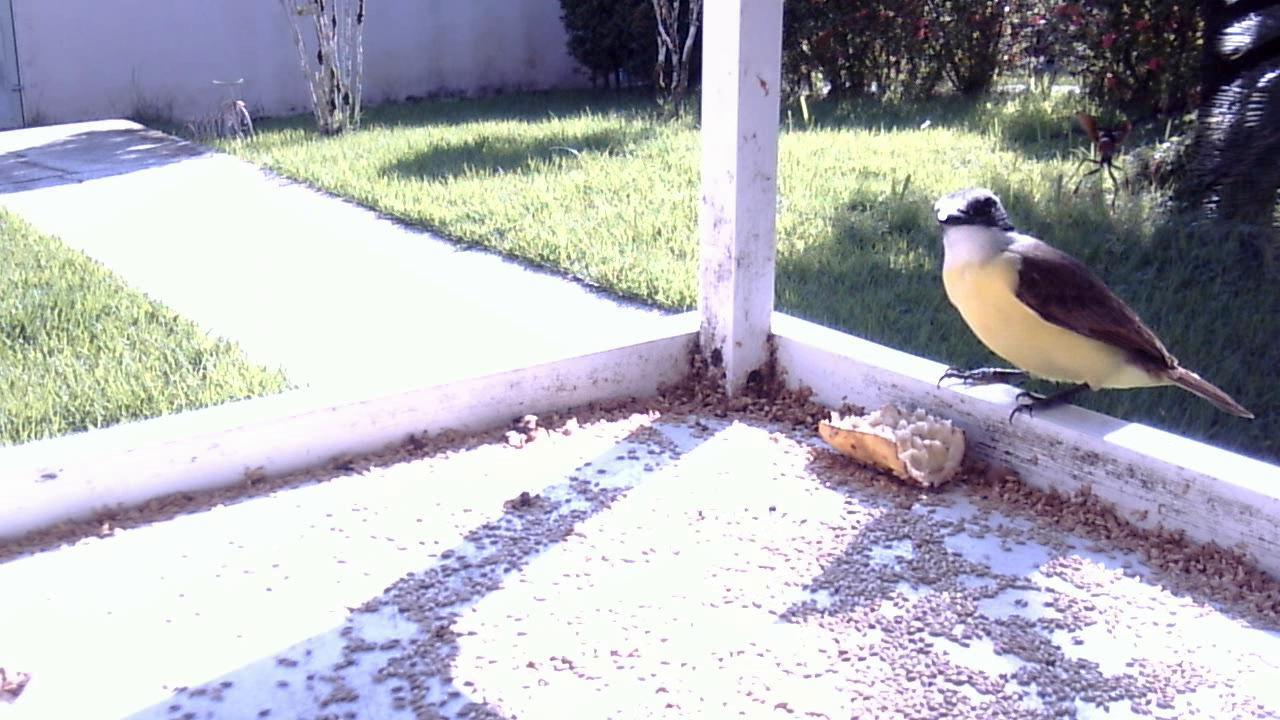bem_te_vi: (915, 176, 1259, 449)
